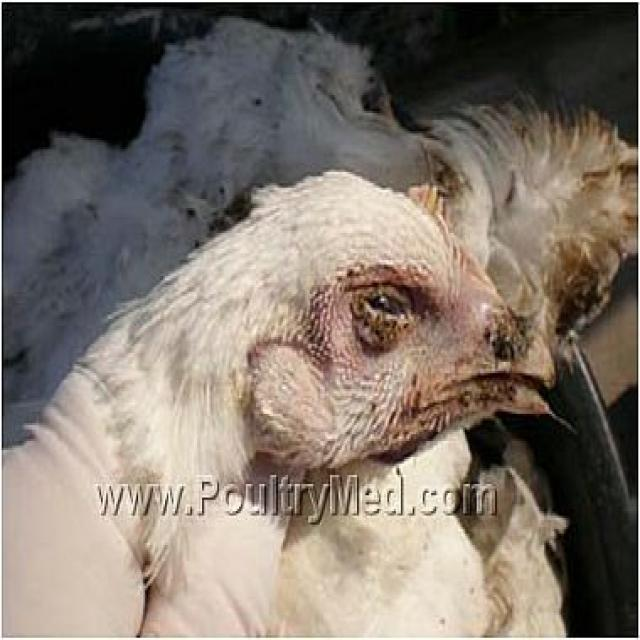Infectios bronchitis: (288, 246, 549, 452)
